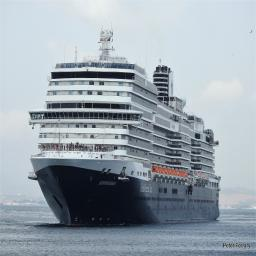cruises: (28, 29, 225, 231)
